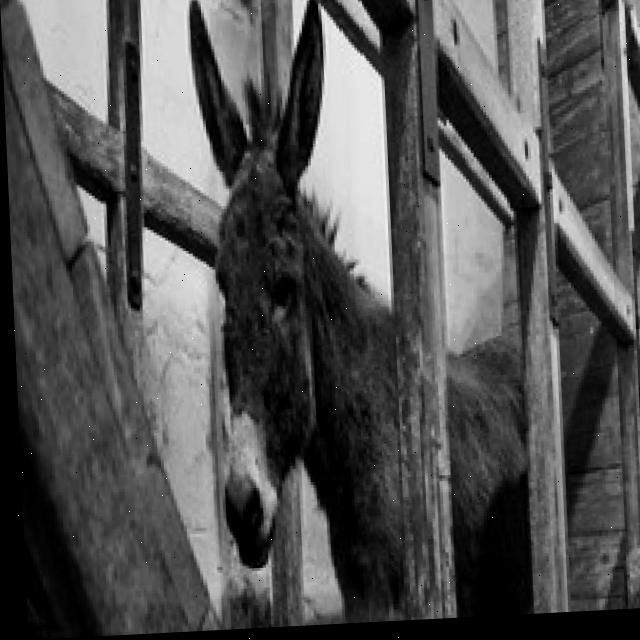Donkey: (183, 0, 540, 628)
